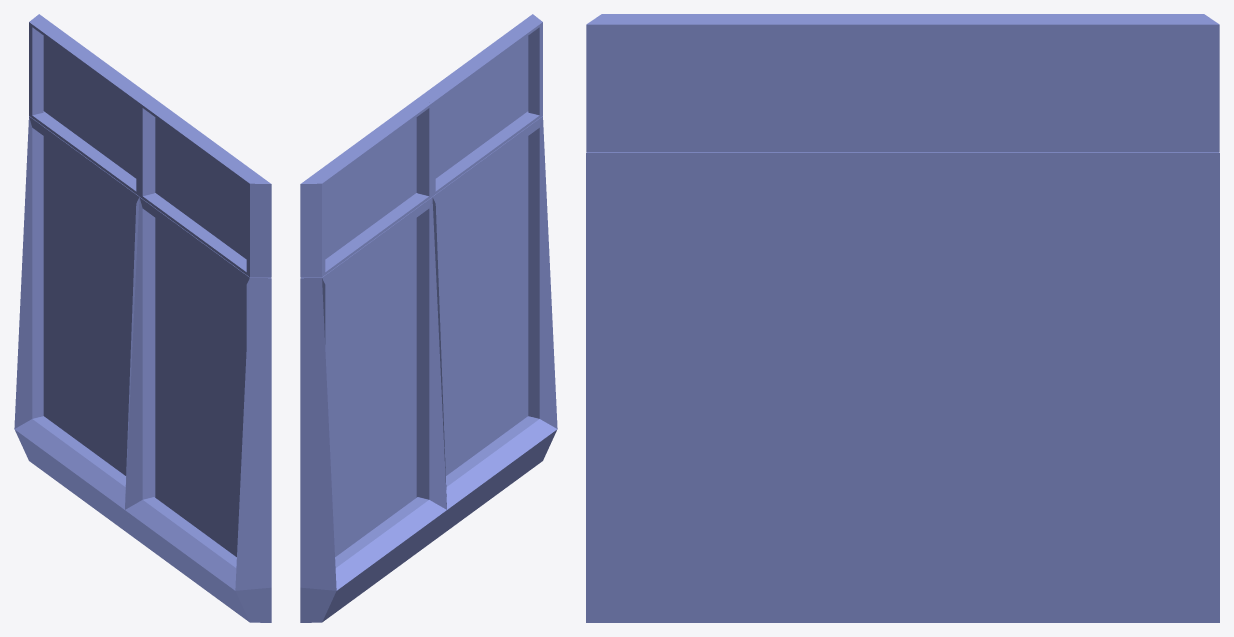
Rendered from WindowFrames.fbx.
3 renders of one model, left to right at view 1: azimuth 30°, elevation 25°; view 2: azimuth 150°, elevation 25°; view 3: azimuth 270°, elevation 25°, orthographic. The views are drawn at different scales.
Parts seen in each view (by area): view 1: WindowFrames; view 2: WindowFrames; view 3: WindowFrames.
Boxes of the visible parts, x1=… form: WindowFrames: x1=14, y1=14, x2=271, y2=622; WindowFrames: x1=300, y1=14, x2=557, y2=622; WindowFrames: x1=586, y1=14, x2=1219, y2=622.
Size of the model in its own units: 1978 by 27221 by 26126.
